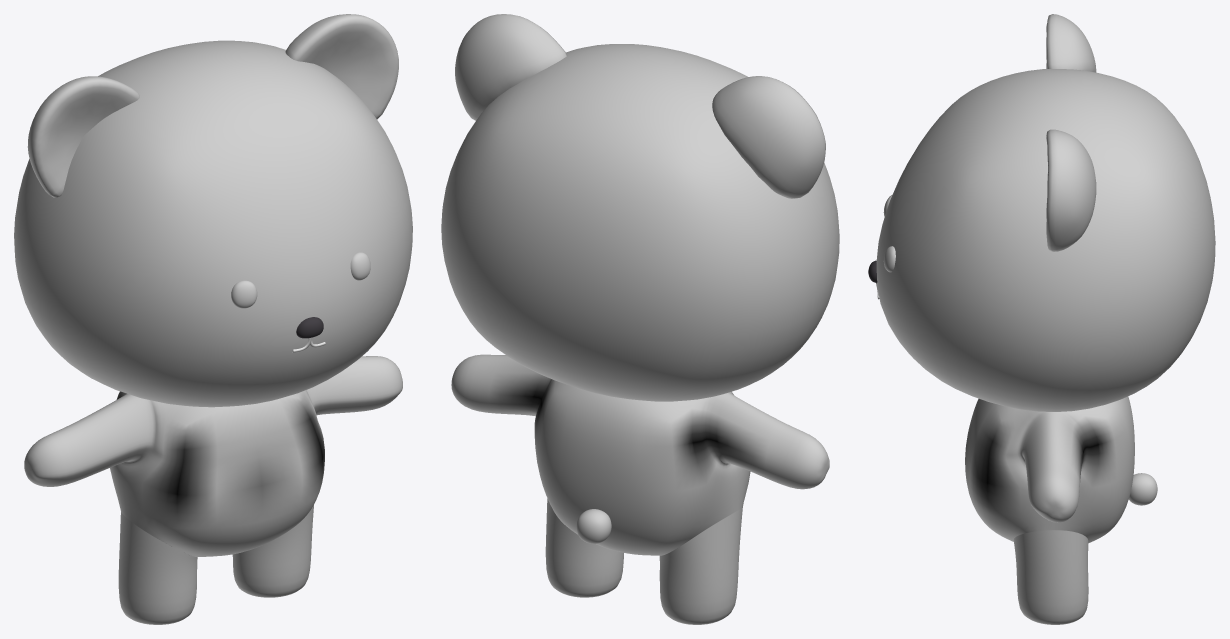
Rendered from panda.fbx.
3 renders of one model, left to right at view 1: azimuth 30°, elevation 25°; view 2: azimuth 150°, elevation 25°; view 3: azimuth 270°, elevation 25°, orthographic. The views are drawn at different scales.
Parts seen in each view (by area): view 1: Cube, body, ears, eyes; view 2: Cube, body, ears, Cube.001; view 3: Cube, body, ears, Cube.001.
Boxes of the visible parts, box(x1,y1,x2,y2) form: Cube: box(14, 40, 412, 407); body: box(24, 356, 402, 624); ears: box(27, 14, 398, 197); eyes: box(231, 252, 370, 308); Cube: box(441, 44, 839, 401); body: box(451, 354, 829, 624); ears: box(455, 14, 825, 198); Cube.001: box(576, 509, 611, 543); Cube: box(876, 69, 1215, 411); body: box(965, 396, 1134, 624); ears: box(1046, 14, 1096, 251); Cube.001: box(1128, 473, 1157, 505).
Bounding box in the file's own units: 212 × 303 × 186.
